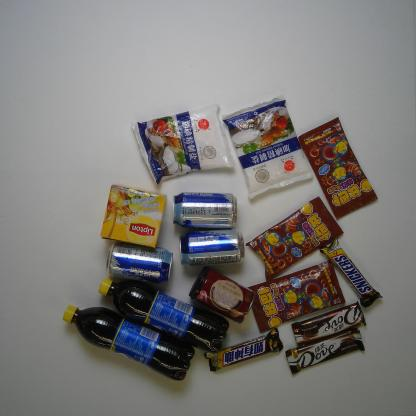Alcohol: (175, 227, 246, 269), (104, 242, 175, 282), (169, 192, 240, 229)
Candy: (297, 116, 379, 220), (245, 196, 345, 281), (245, 260, 348, 333)
Canned Food: (189, 266, 257, 324)
Chocolate: (320, 237, 382, 308), (285, 328, 365, 376), (290, 300, 369, 348), (204, 327, 286, 373)
Drink: (58, 304, 194, 382), (96, 278, 230, 354)
Instant Drink: (100, 182, 168, 249)
Seasoner: (221, 92, 314, 201), (131, 102, 234, 186)
